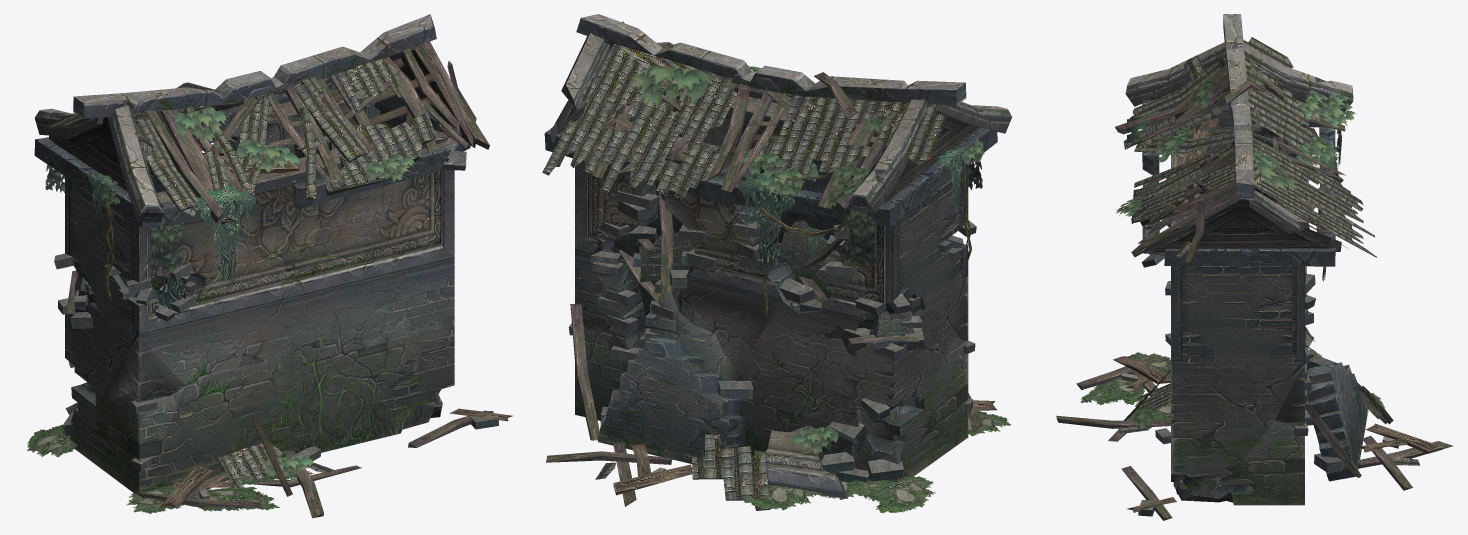
Rendered from Ruins_2.FBX.
3 views of the same model, side by side, from view 1: azimuth 30°, elevation 25°; view 2: azimuth 150°, elevation 25°; view 3: azimuth 270°, elevation 25° (orthographic). The views are drawn at different scales.
Visible parts, largest first — view 1: Ruins_2; view 2: Ruins_2; view 3: Ruins_2.
Part boxes in pixels (<box>): Ruins_2: <box>27,14,512,518</box>; Ruins_2: <box>542,14,1011,513</box>; Ruins_2: <box>1056,14,1452,520</box>.
Size of the model in its own units: 495 by 465 by 454.
